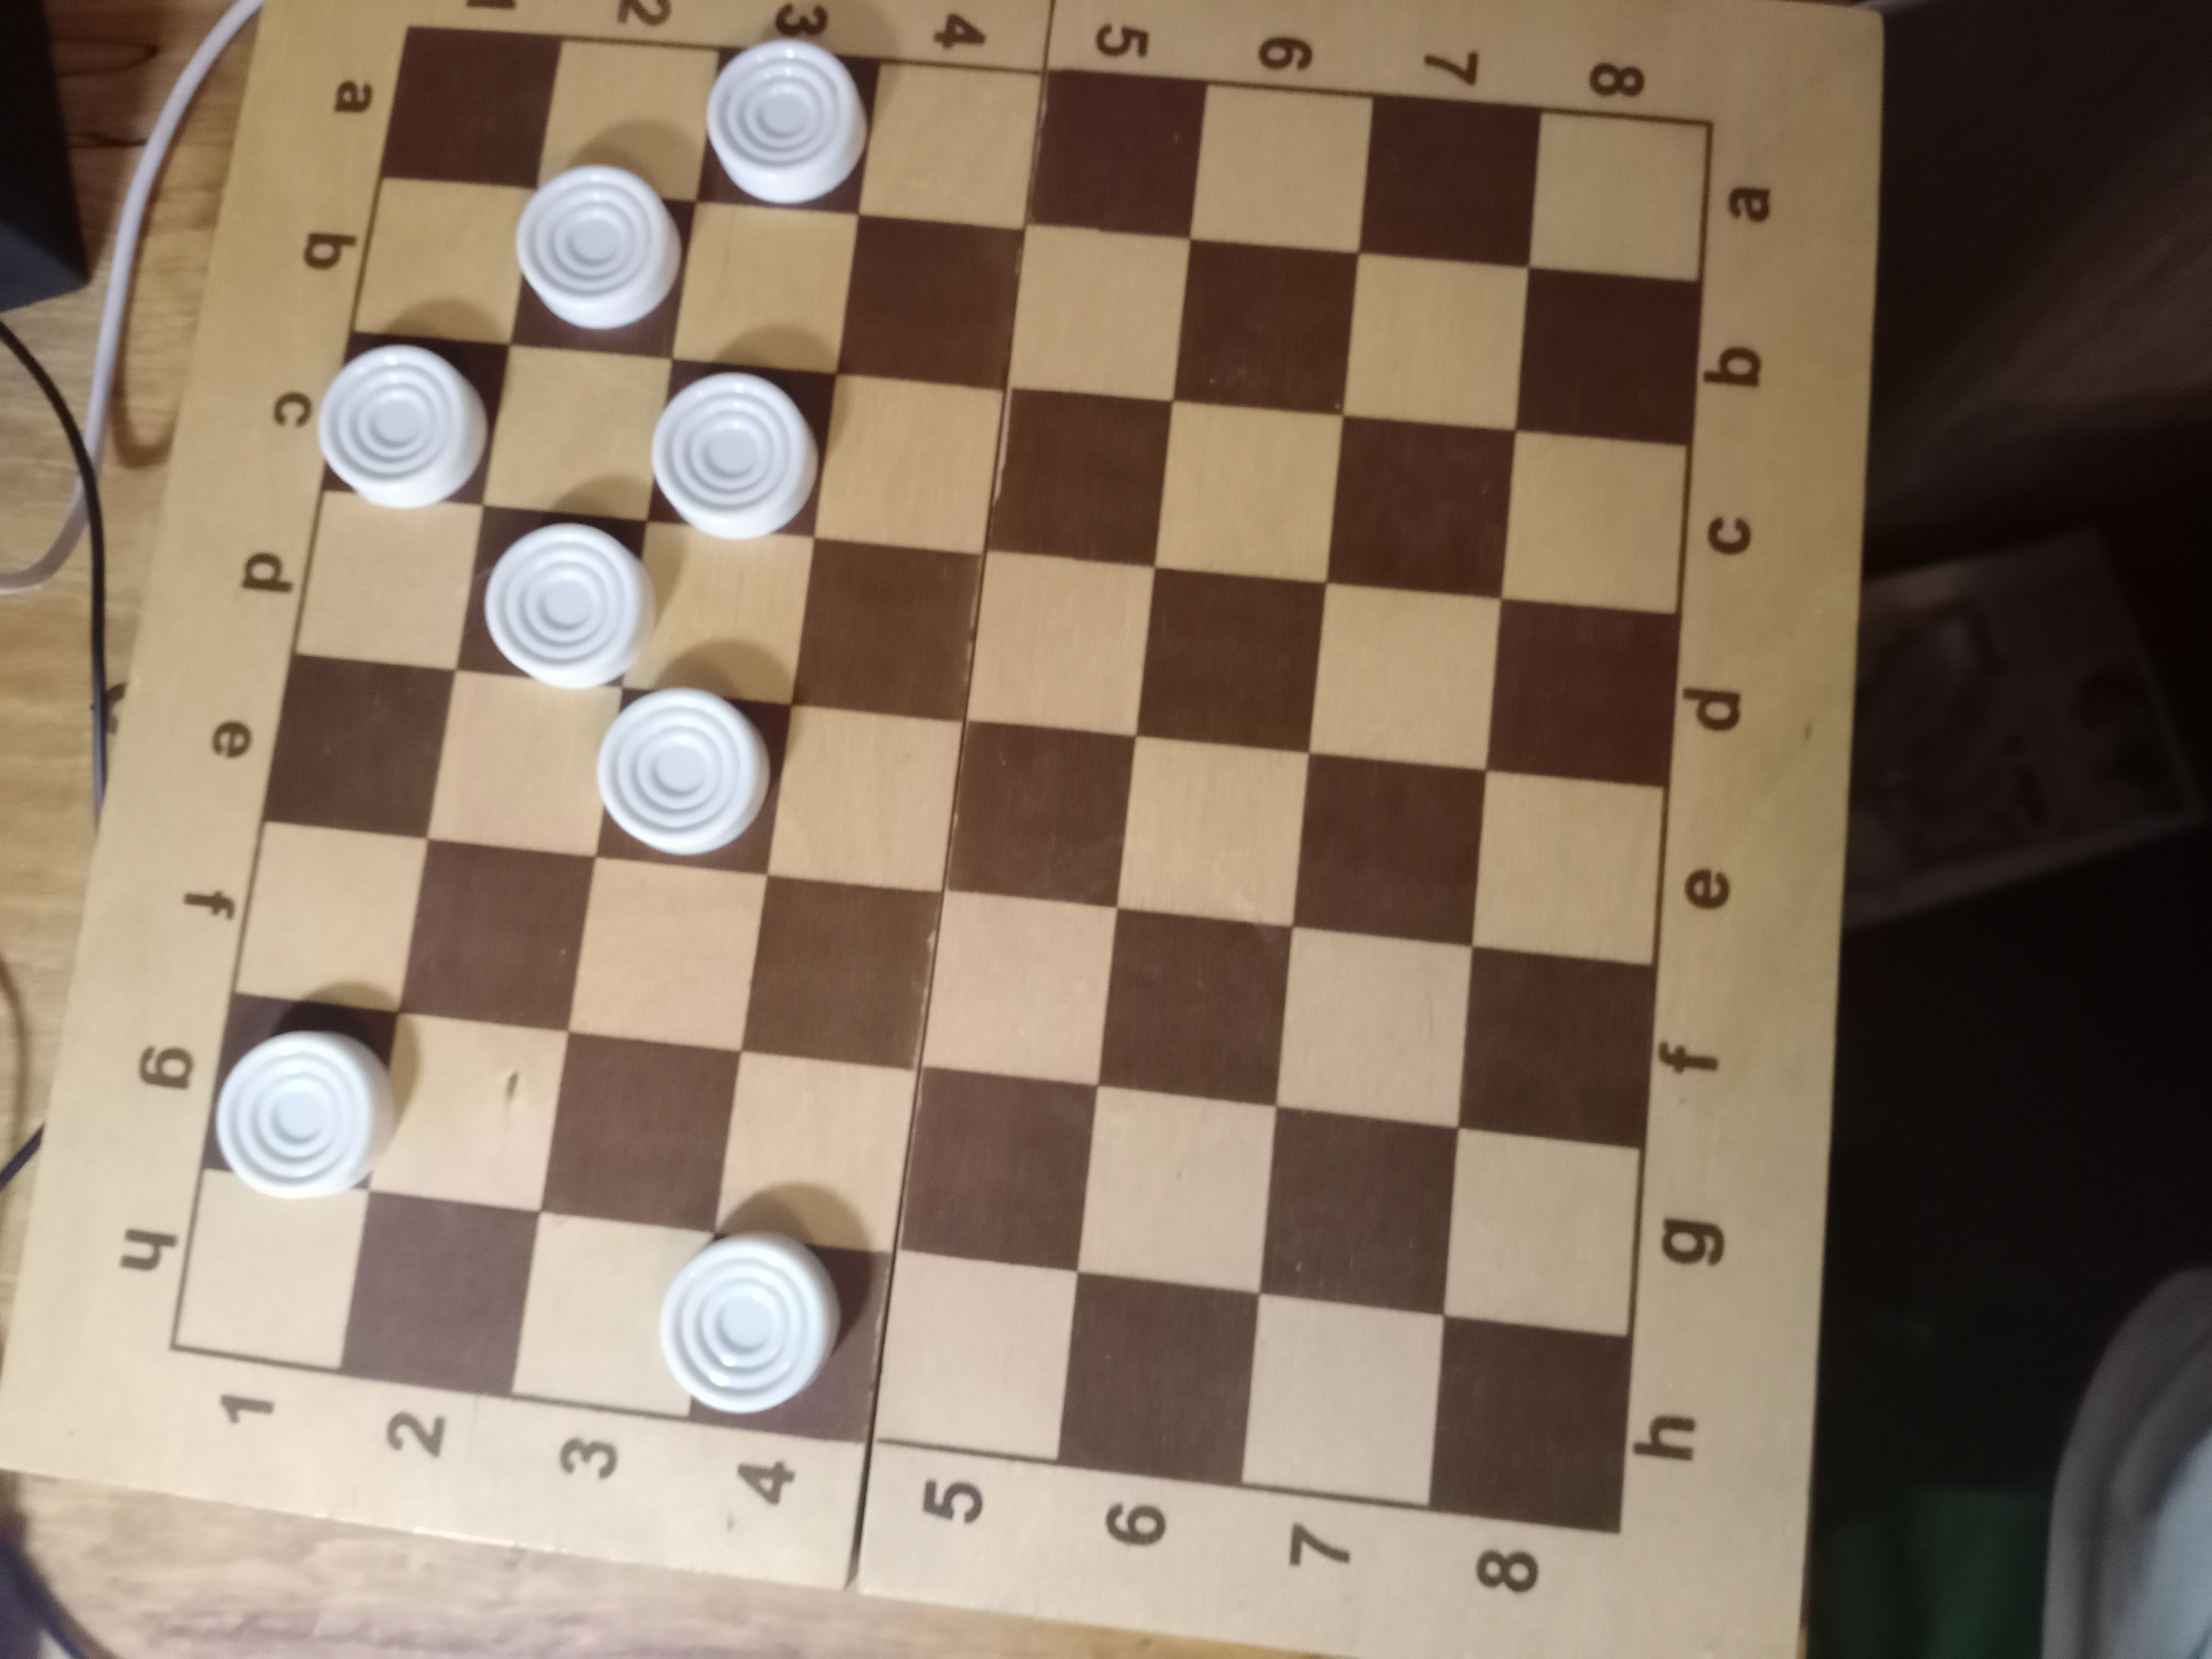White_Draught: (658, 1229, 892, 1443), (209, 993, 397, 1202), (455, 507, 658, 690), (509, 164, 697, 361), (597, 685, 791, 875), (646, 359, 838, 540), (317, 331, 510, 507), (697, 38, 878, 216)
